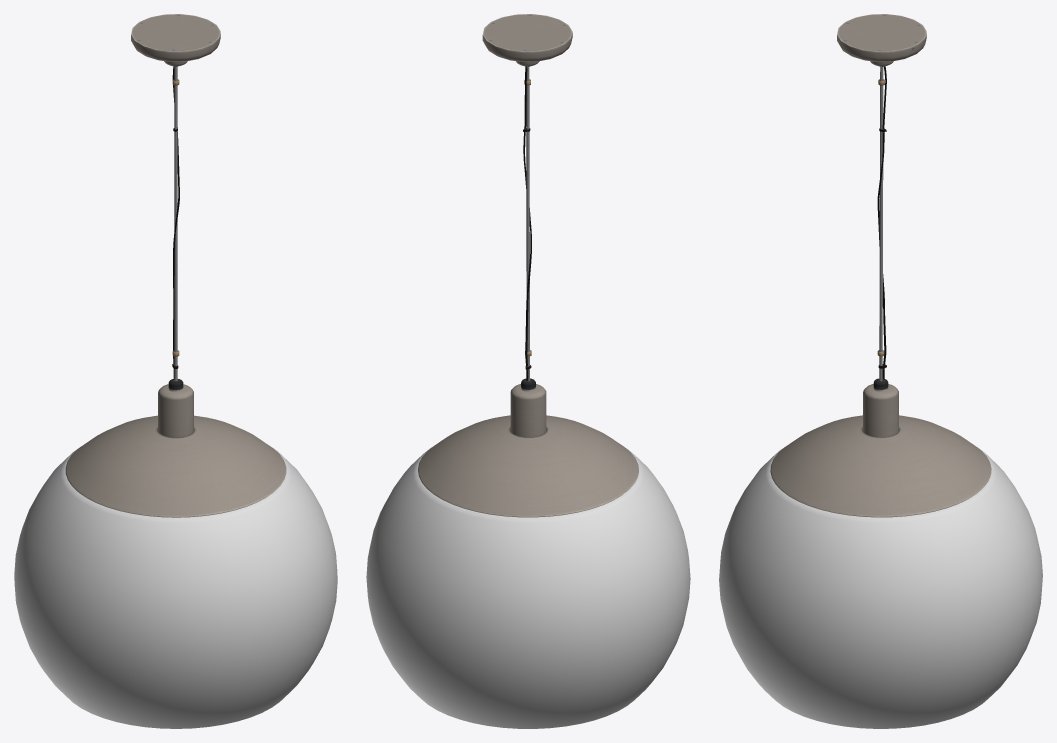
Rendered from Lamp.fbx.
3 views of the same model, side by side, from view 1: azimuth 30°, elevation 25°; view 2: azimuth 150°, elevation 25°; view 3: azimuth 270°, elevation 25° (orthographic).
Visible parts, largest first — view 1: modern_ceiling_lamp_01; view 2: modern_ceiling_lamp_01; view 3: modern_ceiling_lamp_01.
Part boxes in pixels (left/top/right/bottom): modern_ceiling_lamp_01: left=14, top=14, right=337, bottom=728; modern_ceiling_lamp_01: left=366, top=14, right=690, bottom=728; modern_ceiling_lamp_01: left=719, top=14, right=1042, bottom=728.
Bounding box in the file's own units: 146 × 322 × 146.
